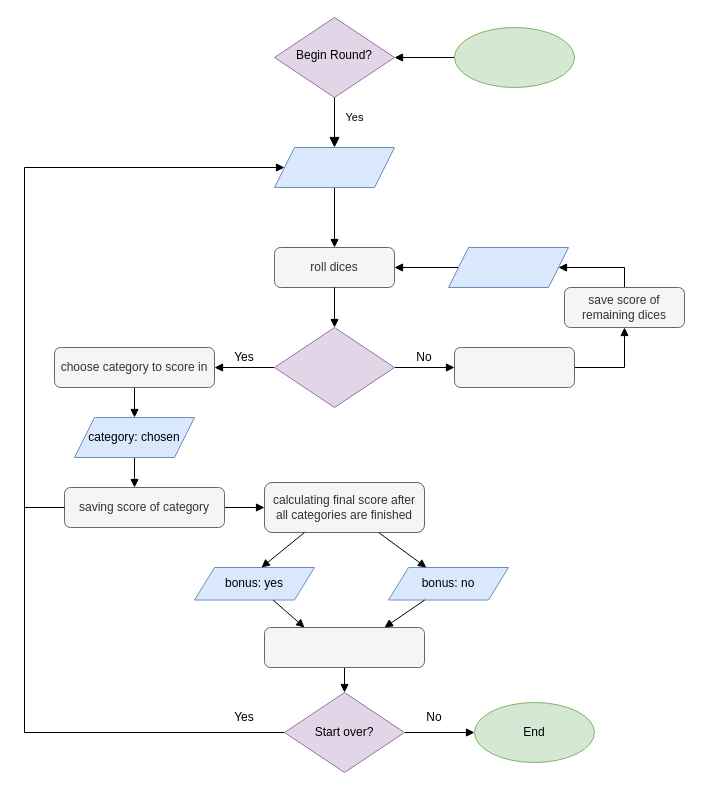
This 702x790 diagram has some shape labels left out. The box of each missing label's shape, as (x1, y1, x2, y2) in pixels:
choose dices to roll: (454, 346, 574, 388)
dices: 5: (274, 146, 394, 188)
dices: chosen: (448, 246, 568, 288)
Start: (454, 26, 574, 88)
Stop?: (274, 326, 394, 408)
Total: (264, 626, 424, 668)
